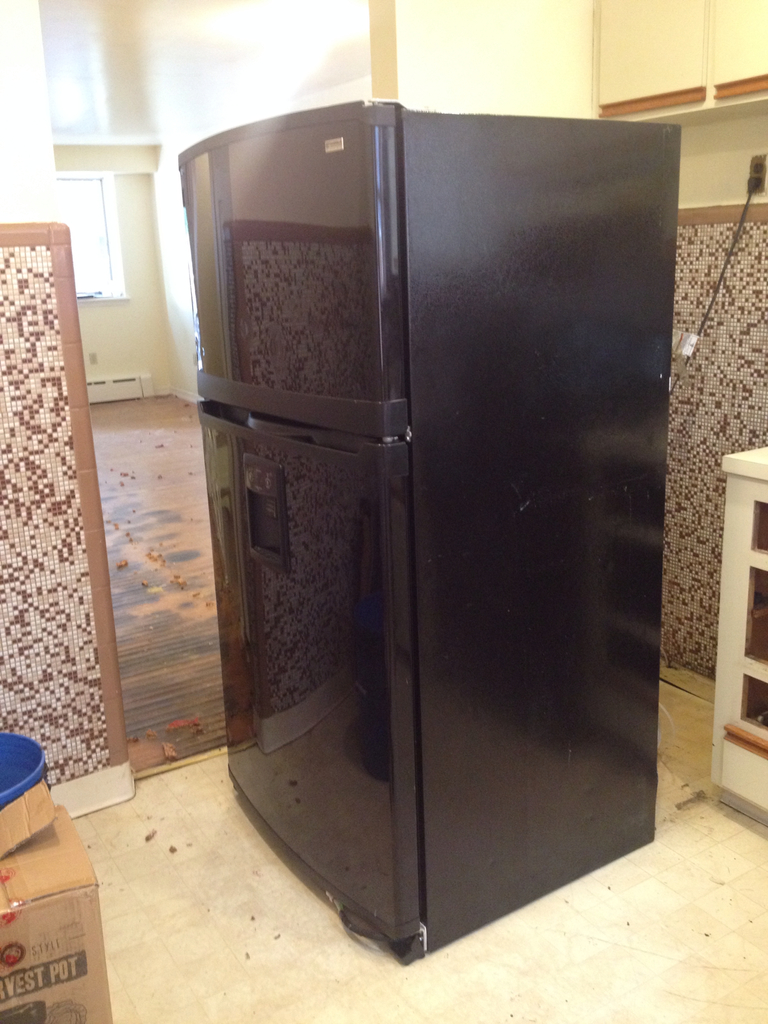handle: (196, 377, 392, 459)
refrigerator door: (205, 431, 401, 875), (187, 158, 394, 401)
